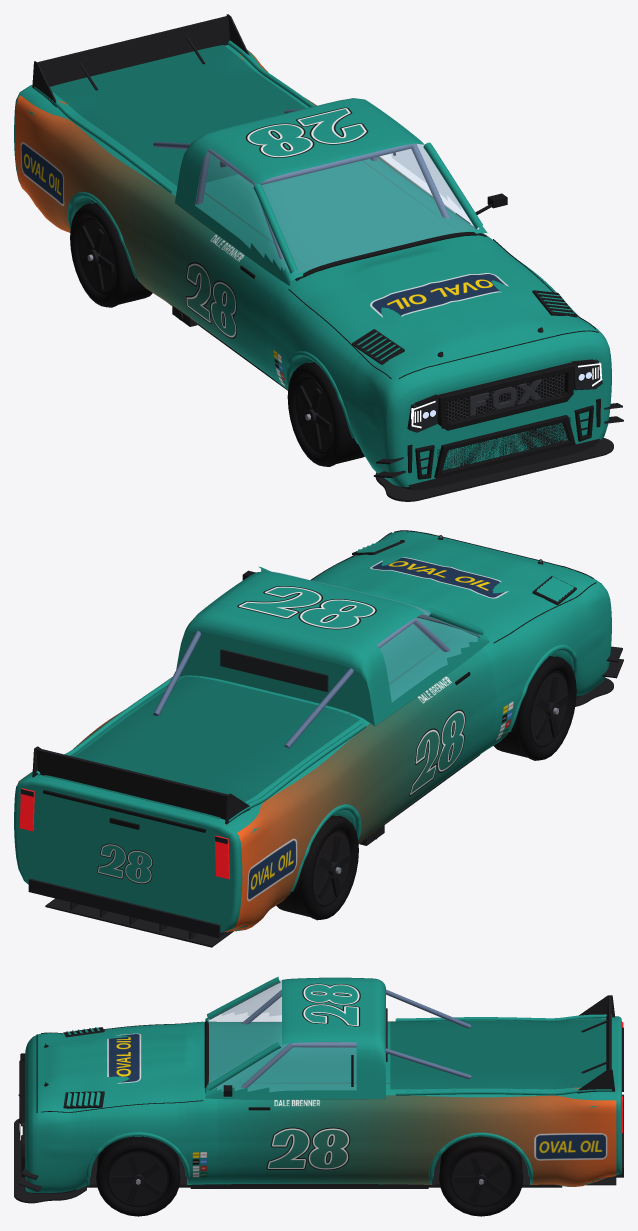
File: truck_livery_2.glb
The picture shows the model from 3 angles, top to bottom: view 1: azimuth 30°, elevation 25°; view 2: azimuth 150°, elevation 25°; view 3: azimuth 270°, elevation 25°; orthographic projection. The views are drawn at different scales.
Visible parts, largest first — view 1: Body, Cab, FOX_Race_Truck, BedFloor, SpoilerBlade, Wheel_RR, Wheel_FR, GrilleSurround, Splitter, LowerIntakeSurround, LowerIntakeMesh, APillar (×2) (+7 smaller); view 2: Body, Cab, FOX_Race_Truck, BedFloor, Wheel_FR, Wheel_RR, SpoilerBlade, RearBumper, RearWindow, DiffuserPlate, BedRail (×2), RaceNumber_roof (+5 smaller); view 3: Body, FOX_Race_Truck, Cab, BedFloor, Wheel_FL, Wheel_RL, BedRail (×2), FenderLip (×2), SideSkirt, RaceNumber_doorL, Splitter, APillar (×2) (+8 smaller).
Boxes of the visible parts, x1,y1,x2,y2 form: Body: (14,45,611,490); Cab: (175,98,487,285); FOX_Race_Truck: (15,49,508,388); BedFloor: (50,45,305,185); SpoilerBlade: (37,16,229,86); Wheel_RR: (70,203,152,307); Wheel_FR: (287,362,364,466); GrilleSurround: (437,362,574,430); Splitter: (375,438,613,501); LowerIntakeSurround: (434,415,575,478); LowerIntakeMesh: (437,417,570,470); APillar (×2): (253,142,482,273); Body: (14,531,611,932); Cab: (176,571,489,726); FOX_Race_Truck: (18,557,513,932); BedFloor: (44,676,359,819); Wheel_FR: (493,656,576,760); Wheel_RR: (276,815,358,920); SpoilerBlade: (36,748,227,819); RearBumper: (28,878,225,938); RearWindow: (220,649,328,691); DiffuserPlate: (45,898,233,947); BedRail (×2): (36,677,366,822); RaceNumber_roof: (237,586,376,629); Body: (25,1016,621,1193); FOX_Race_Truck: (107,1021,616,1186); Cab: (205,977,385,1099); BedFloor: (390,1019,611,1089); Wheel_FL: (96,1136,180,1216); Wheel_RL: (439,1136,523,1216); BedRail (×2): (395,1014,611,1095); FenderLip (×2): (86,1132,533,1177); SideSkirt: (190,1184,428,1188); RaceNumber_doorL: (266,1127,350,1170); Splitter: (14,1119,86,1203); APillar (×2): (207,976,280,1090).
Size of the model in its own units: 2.1 by 1.67 by 5.53.
24 materials, 6 textured.
